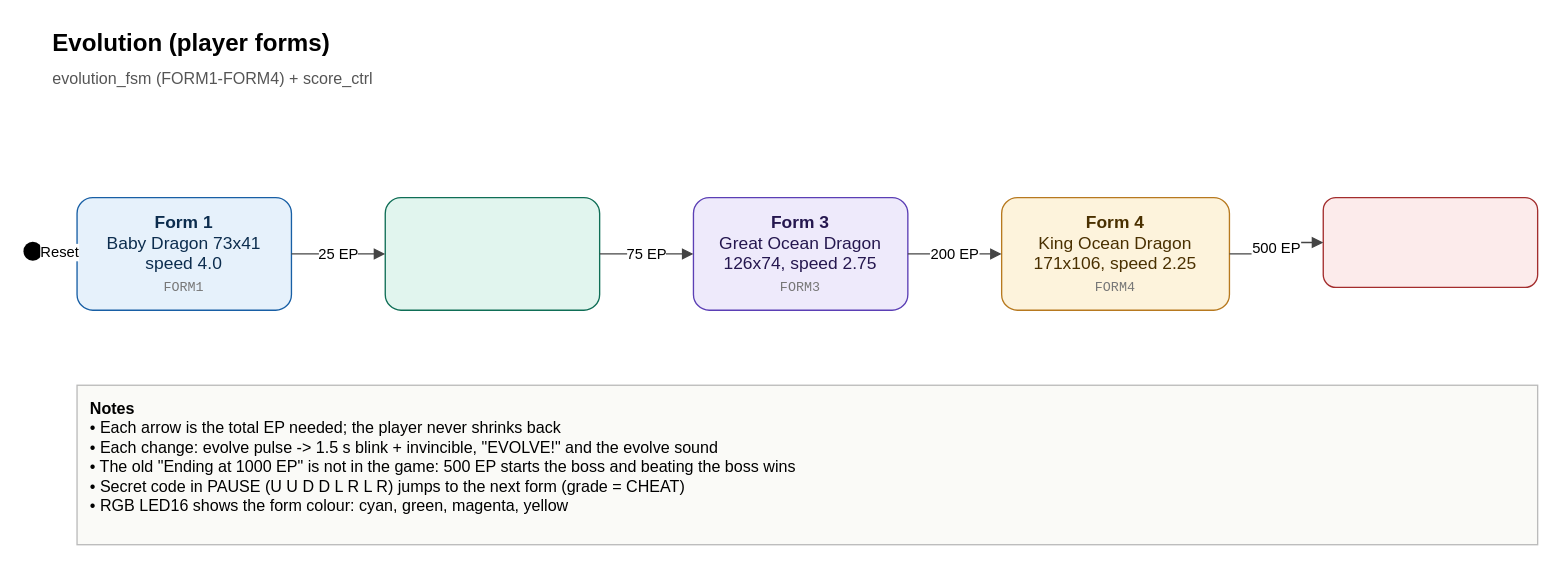
Image size: 1561x568. Some labels were removed from this diagram. The centre of each missing label's shape, as x and y in pixels:
"Boss fight form 4 drawn x0.75 boss_start" belongs at point 1430,241.
"Form 2 Hunter Dragon 96x58 speed 3.5 FORM2" belongs at point 492,253.
